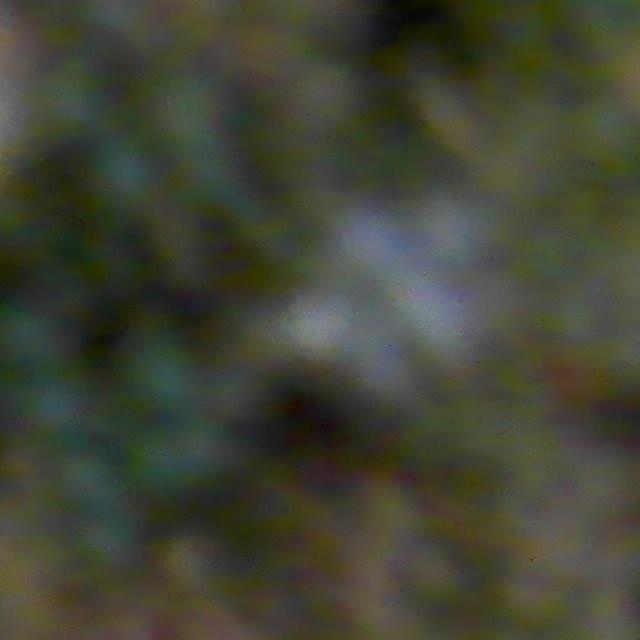SeaGrape: (408, 292, 485, 377), (338, 201, 408, 289), (128, 341, 204, 415), (282, 292, 355, 369), (89, 137, 160, 213), (22, 372, 93, 440), (426, 212, 484, 274), (369, 346, 423, 400)
